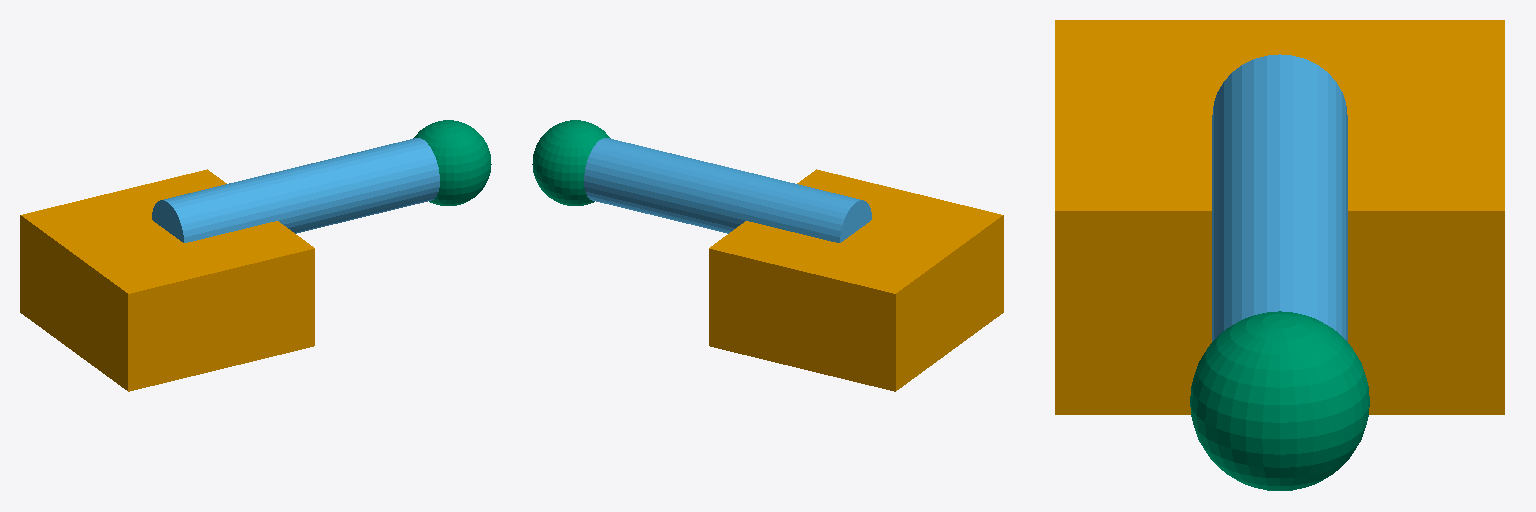
The robot description file, URDF, robot "arm2":
<?xml version="1.0"?>
<!-- P34 oracle fixture: a 2-DoF arm, base -> link1 -> link2, both revolute. -->
<robot name="arm2">
  <link name="base_link">
    <inertial>
      <origin xyz="0 0 0" rpy="0 0 0"/>
      <mass value="2.0"/>
      <inertia ixx="0.01" iyy="0.01" izz="0.01" ixy="0" ixz="0" iyz="0"/>
    </inertial>
    <visual>
      <origin xyz="0 0 0.05" rpy="0 0 0"/>
      <geometry>
        <box size="0.2 0.2 0.1"/>
      </geometry>
    </visual>
    <collision>
      <origin xyz="0 0 0.05" rpy="0 0 0"/>
      <geometry>
        <box size="0.2 0.2 0.1"/>
      </geometry>
    </collision>
  </link>

  <link name="link1">
    <inertial>
      <origin xyz="0.15 0 0" rpy="0 0 0"/>
      <mass value="1.0"/>
      <inertia ixx="0.001" iyy="0.02" izz="0.02" ixy="0" ixz="0" iyz="0"/>
    </inertial>
    <visual>
      <origin xyz="0.15 0 0" rpy="0 1.5707963267948966 0"/>
      <geometry>
        <cylinder radius="0.03" length="0.3"/>
      </geometry>
    </visual>
  </link>

  <link name="link2">
    <inertial>
      <origin xyz="0.1 0 0" rpy="0 0 0"/>
      <mass value="0.5"/>
      <inertia ixx="0.0005" iyy="0.01" izz="0.01" ixy="0" ixz="0" iyz="0"/>
    </inertial>
    <visual>
      <geometry>
        <sphere radius="0.04"/>
      </geometry>
    </visual>
  </link>

  <joint name="shoulder" type="revolute">
    <parent link="base_link"/>
    <child link="link1"/>
    <origin xyz="0 0 0.1" rpy="0 0 0"/>
    <axis xyz="0 0 1"/>
    <limit lower="-1.5707963267948966" upper="1.5707963267948966" effort="50" velocity="2"/>
    <dynamics damping="0.1" friction="0.01"/>
  </joint>

  <joint name="elbow" type="revolute">
    <parent link="link1"/>
    <child link="link2"/>
    <origin xyz="0.3 0 0" rpy="0 0 0"/>
    <axis xyz="0 1 0"/>
    <limit lower="-1.0" upper="1.0" effort="20" velocity="2"/>
    <dynamics damping="0.05" friction="0"/>
  </joint>
</robot>

--- Facts derived from the render (not from the file) ---
Views: 3 orthographic renders of the robot side by side, from view 1: azimuth 30°, elevation 25°; view 2: azimuth 150°, elevation 25°; view 3: azimuth 270°, elevation 25°.
Robot: arm2 — 3 links, 2 joints (2 revolute); root link base_link; default pose: every joint at zero.
Links seen in each view (by area): view 1: base_link, link1, link2; view 2: base_link, link1, link2; view 3: base_link, link1, link2.
Boxes of the visible links, x1,y1,x2,y2 form: base_link: [20, 169, 314, 391]; link1: [152, 138, 439, 242]; link2: [413, 120, 491, 205]; base_link: [709, 169, 1003, 391]; link1: [584, 138, 871, 242]; link2: [532, 120, 610, 205]; base_link: [1055, 20, 1504, 414]; link1: [1212, 54, 1347, 341]; link2: [1190, 311, 1369, 490].
Bounding box of the posed robot: 0.44 × 0.2 × 0.14 m (x, y, z).
Geometry: primitives only (box / cylinder / sphere), no mesh files.
